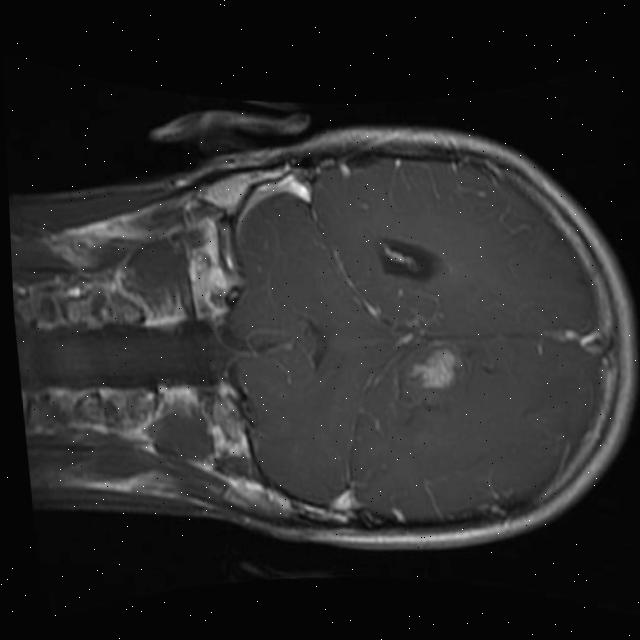Glioma: (408, 346, 458, 393)
